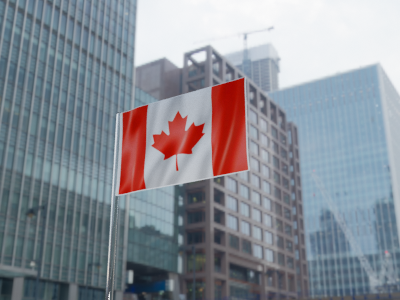Canada flag: (119, 77, 247, 195)
